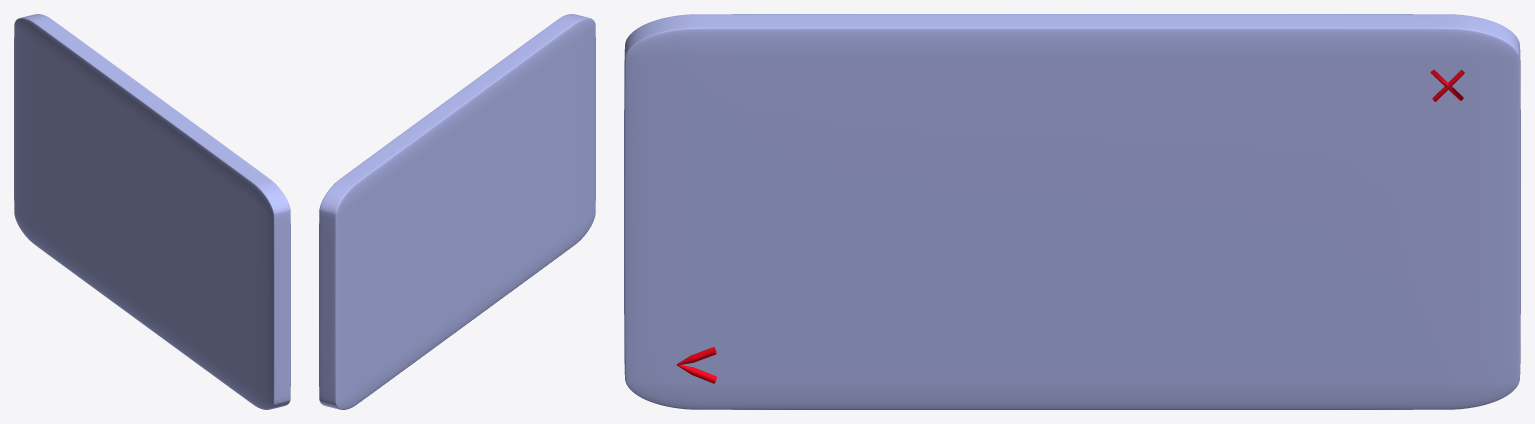
File: board.glb
3 views of the same model, side by side, from view 1: azimuth 30°, elevation 25°; view 2: azimuth 150°, elevation 25°; view 3: azimuth 270°, elevation 25° (orthographic). The views are drawn at different scales.
Visible parts, largest first — view 1: Board; view 2: Board; view 3: Board.
Part boxes in pixels (x1,y1,x2,y2): Board: (14, 14, 290, 409); Board: (319, 14, 595, 409); Board: (624, 14, 1520, 409).
Size of the model in its own units: 0.8821 by 7.65 by 16.25.
